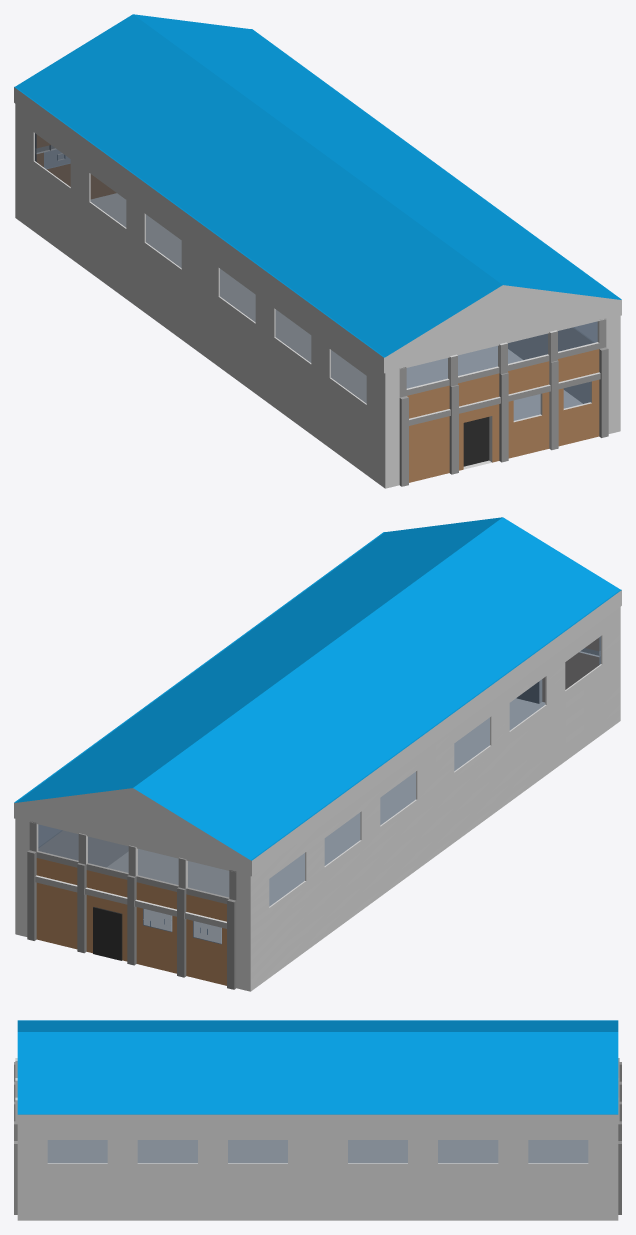
Rendered from changku2.fbx.
3 views of the same model, one above another, from view 1: azimuth 30°, elevation 25°; view 2: azimuth 150°, elevation 25°; view 3: azimuth 270°, elevation 25° (orthographic). The views are drawn at different scales.
Parts seen in each view (by area): view 1: pCube2; view 2: pCube2; view 3: pCube2.
Boxes of the visible parts, box(x1,y1,x2,y2) form: pCube2: box(14, 14, 621, 488); pCube2: box(14, 517, 621, 991); pCube2: box(14, 1020, 621, 1220).
Size of the model in its own units: 18.57 by 13.05 by 50.6.
